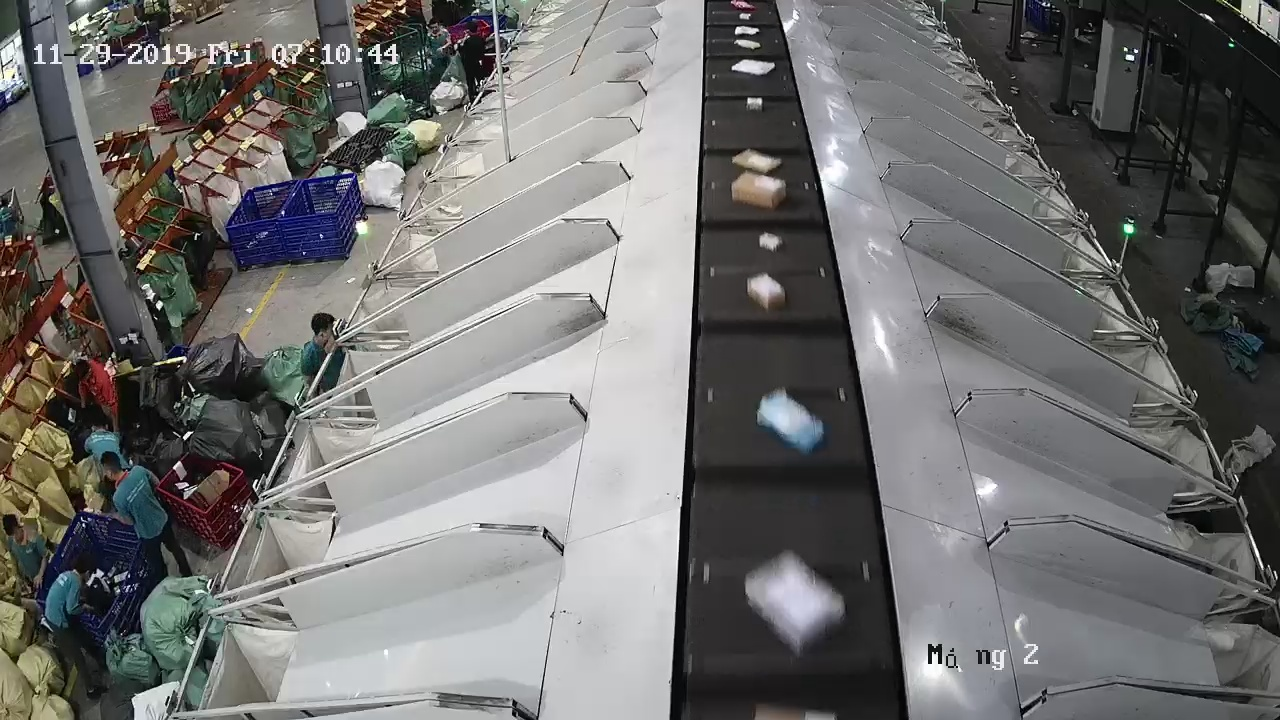parcel: (744, 550, 846, 659), (756, 388, 829, 458), (731, 173, 786, 209), (747, 273, 786, 312), (758, 233, 783, 252)
